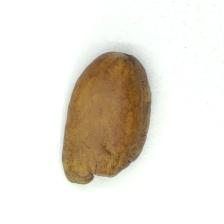NG: (80, 158, 137, 184)
